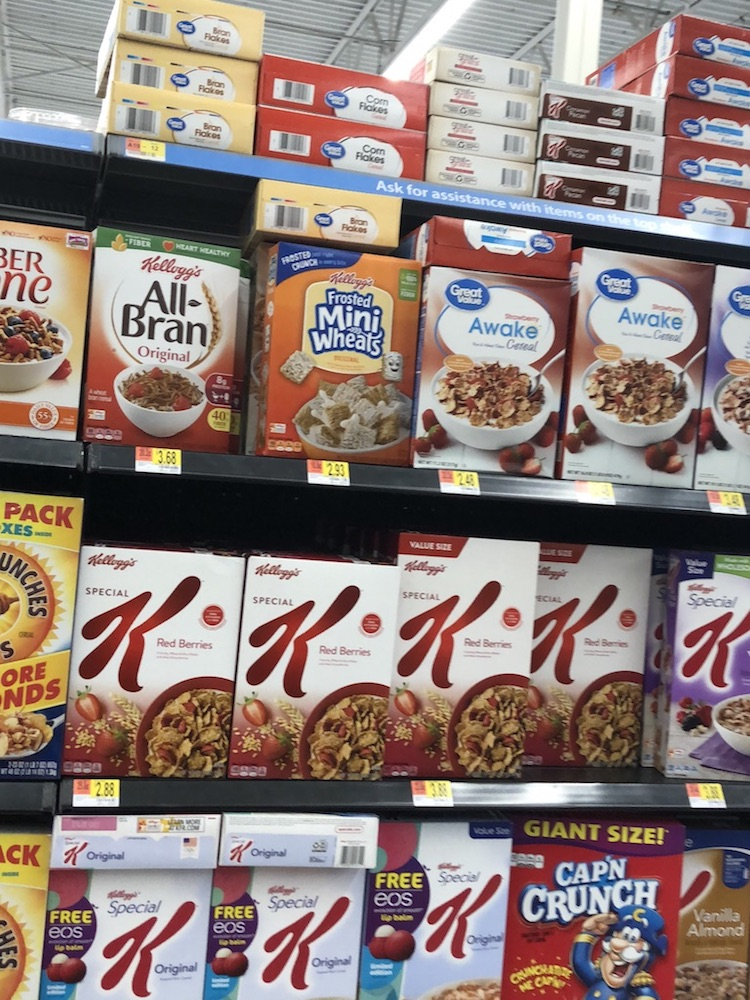Frosted Mini Original -9295869: (268, 244, 421, 460)
